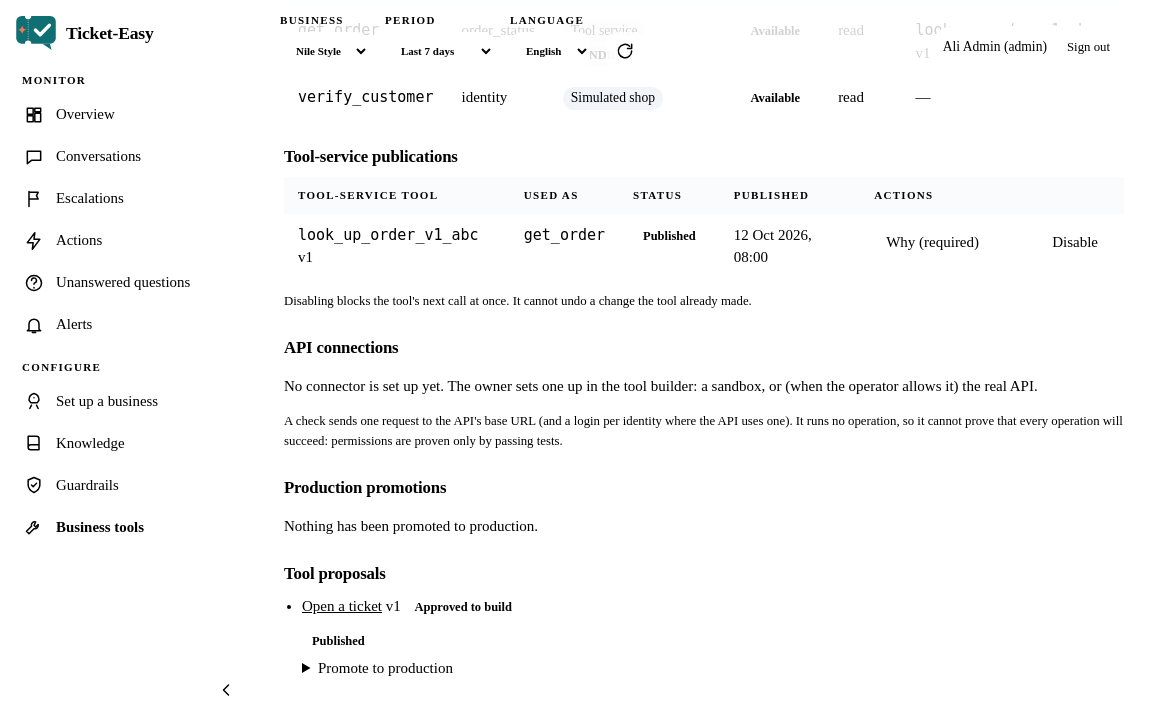
Scenario: business tools in Live Demo › an admin sees PRODUCTION and can promote and roll back; a manager sees the state but no production controls
(page scrolled)
Check: the column heading "Published" is shown, box [720,177,860,214]
Click the heading "Promote to production". click: (385,668)
box: [318,660,453,676]
(page scrolled)
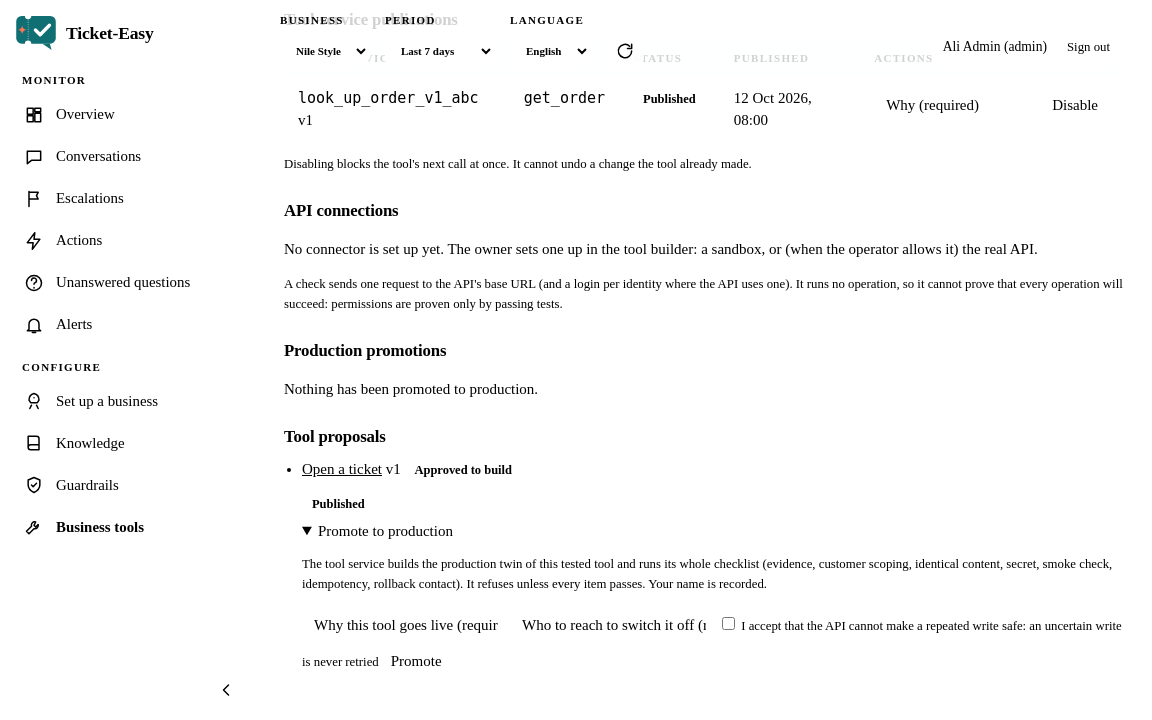
Type "go live" into the field labelled "Why this tool goes live (required)". click: (406,625)
box: [302,607,510,643]
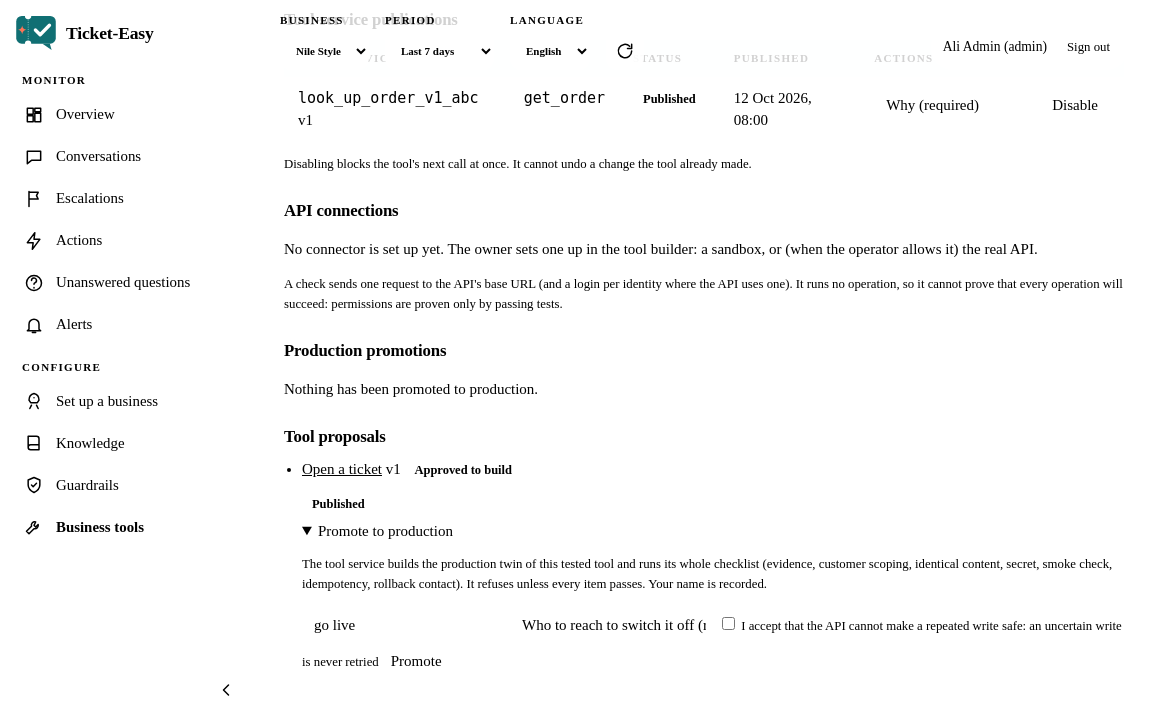
Type "oncall@example.com" into the field labelled "Who to reach to switch it off (required)". click: (614,625)
box: [510,607,718,643]
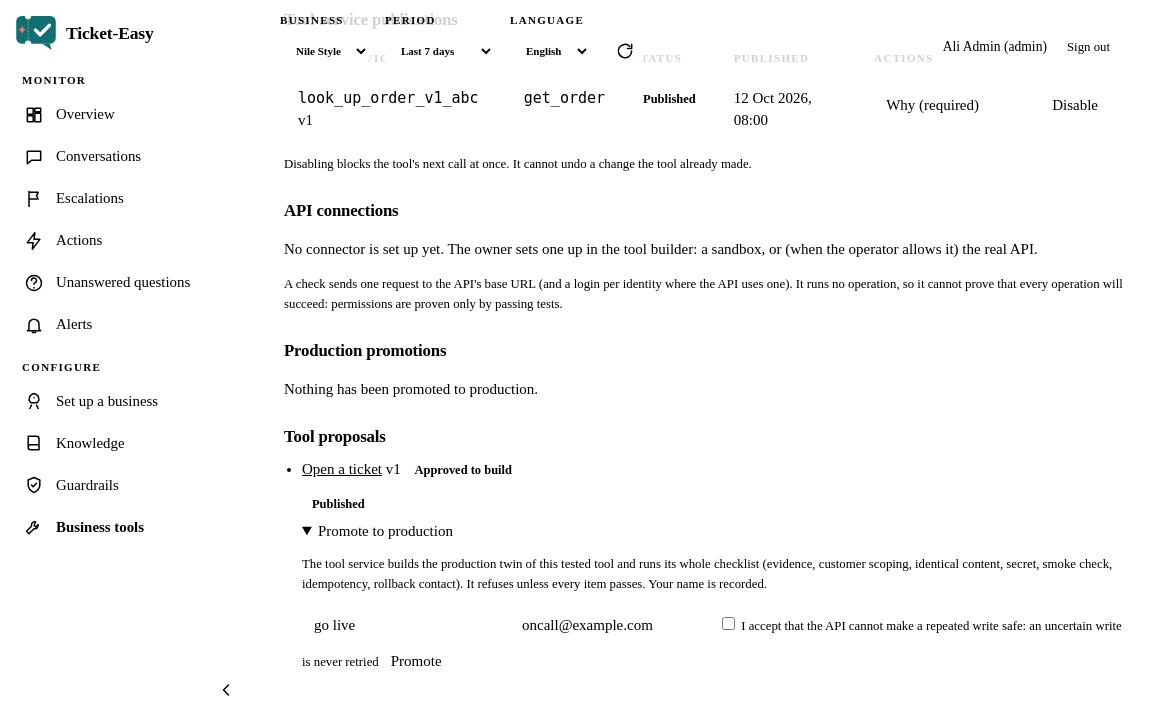
Click the button "Promote". click: (416,661)
box: [379,643,454,680]
(page scrolled)
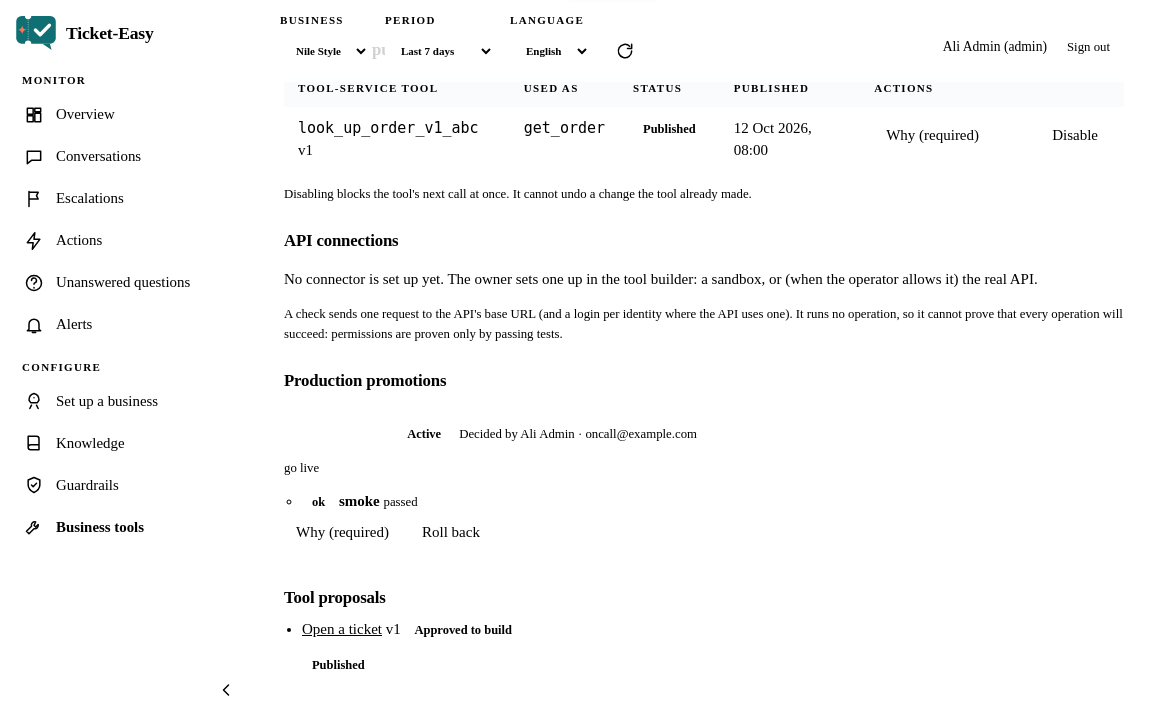
Check: the text "Decided by Ali Admin · oncall@example.com" is shown, box [459,425,697,444]
Type "stop" into the field labelled "Why (required)" below "Active". click: (344,532)
box: [284,514,404,551]
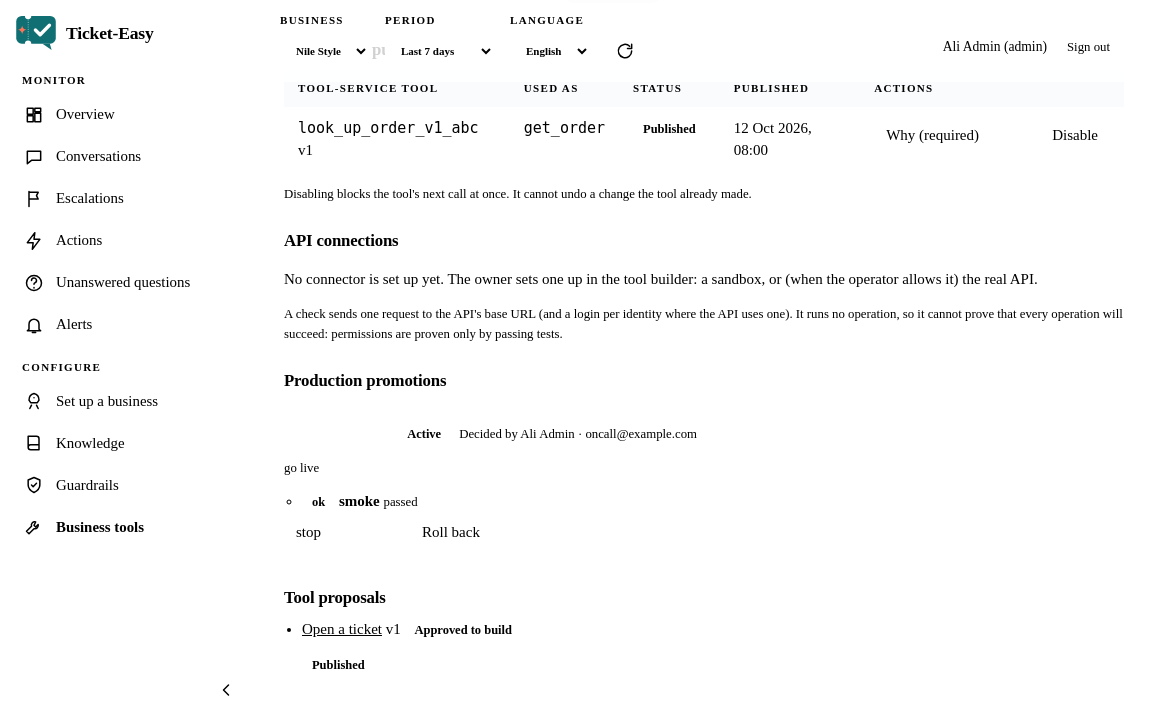
Click the button "Roll back". click: (451,532)
box: [410,514,492,551]
(page scrolled)
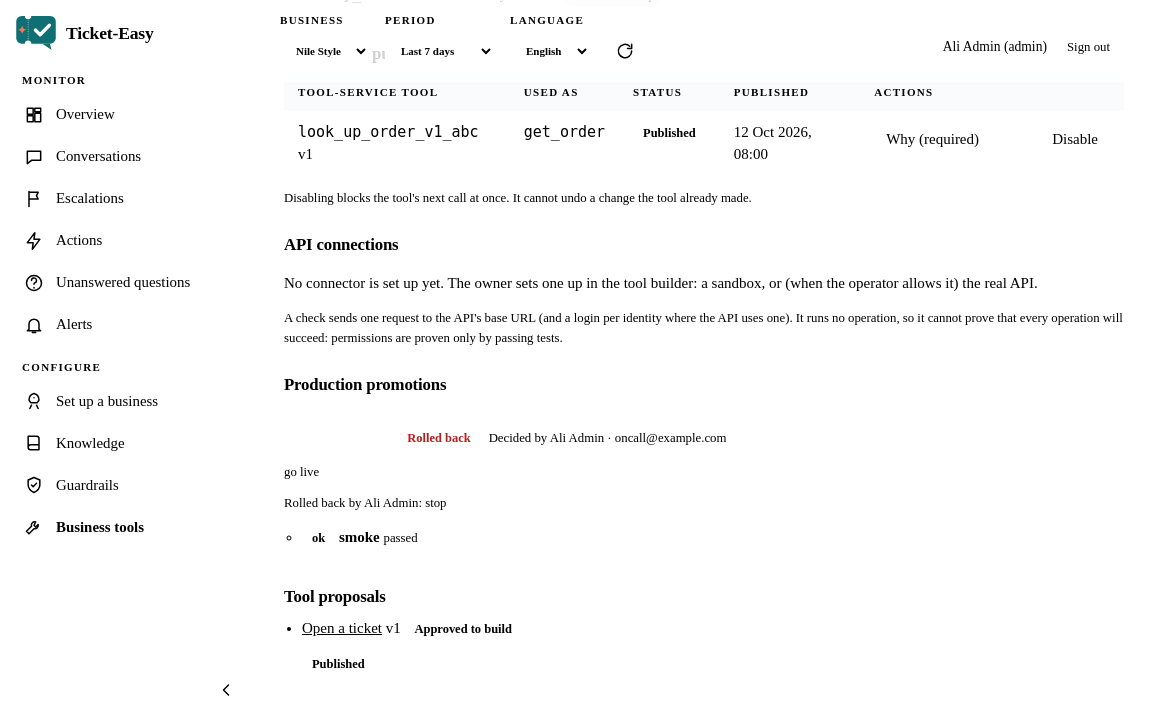
Check: the text "Rolled back" is shown, box [407,431,471,445]
